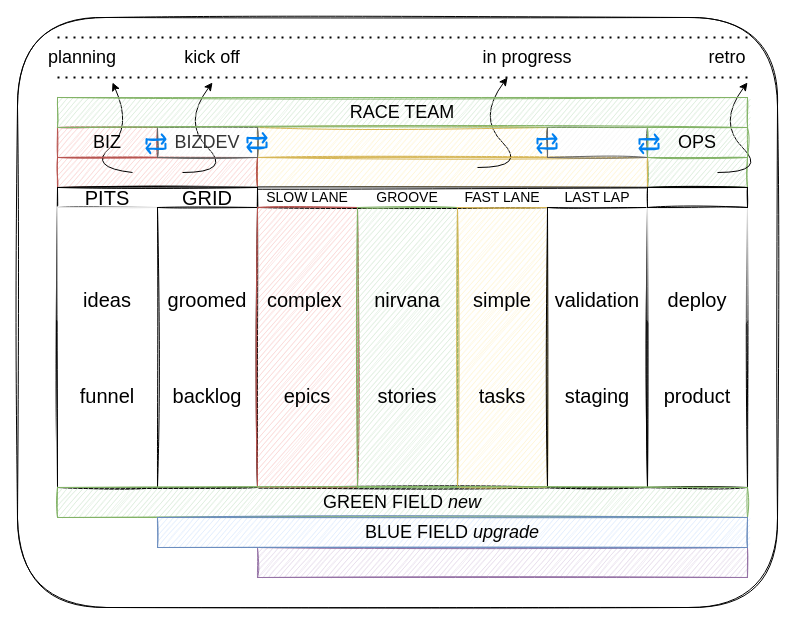
Some shapes in this 795 by 625 pixel diagram are drawn without their labels. The shapes that lost their labels are listed below. From the top down, each one's box as (x1, y1, x2, y2) in pixels, then its label:
(256, 126, 548, 158): DEV
(546, 126, 648, 158): DEVOPS
(56, 156, 258, 188): FIELD
(256, 156, 648, 188): RACE
(646, 156, 748, 188): WIN
(646, 186, 748, 208): DEPLOY
(256, 546, 748, 578): BROWN FIELD fix
